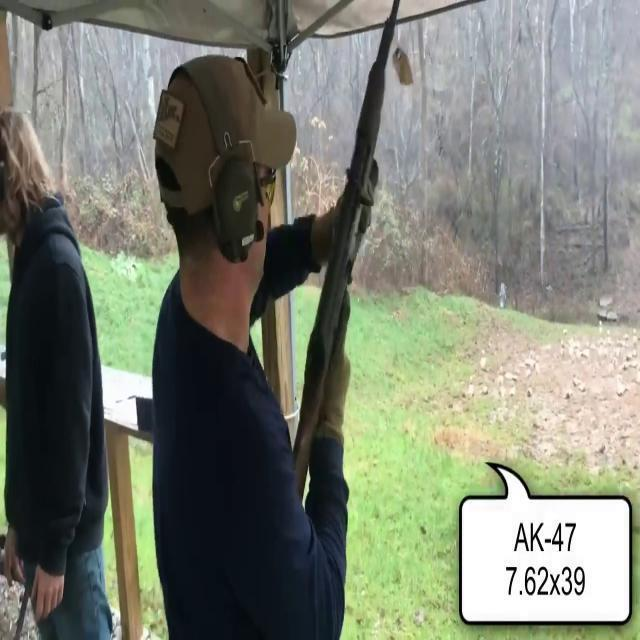Rifle: (257, 0, 412, 601)
